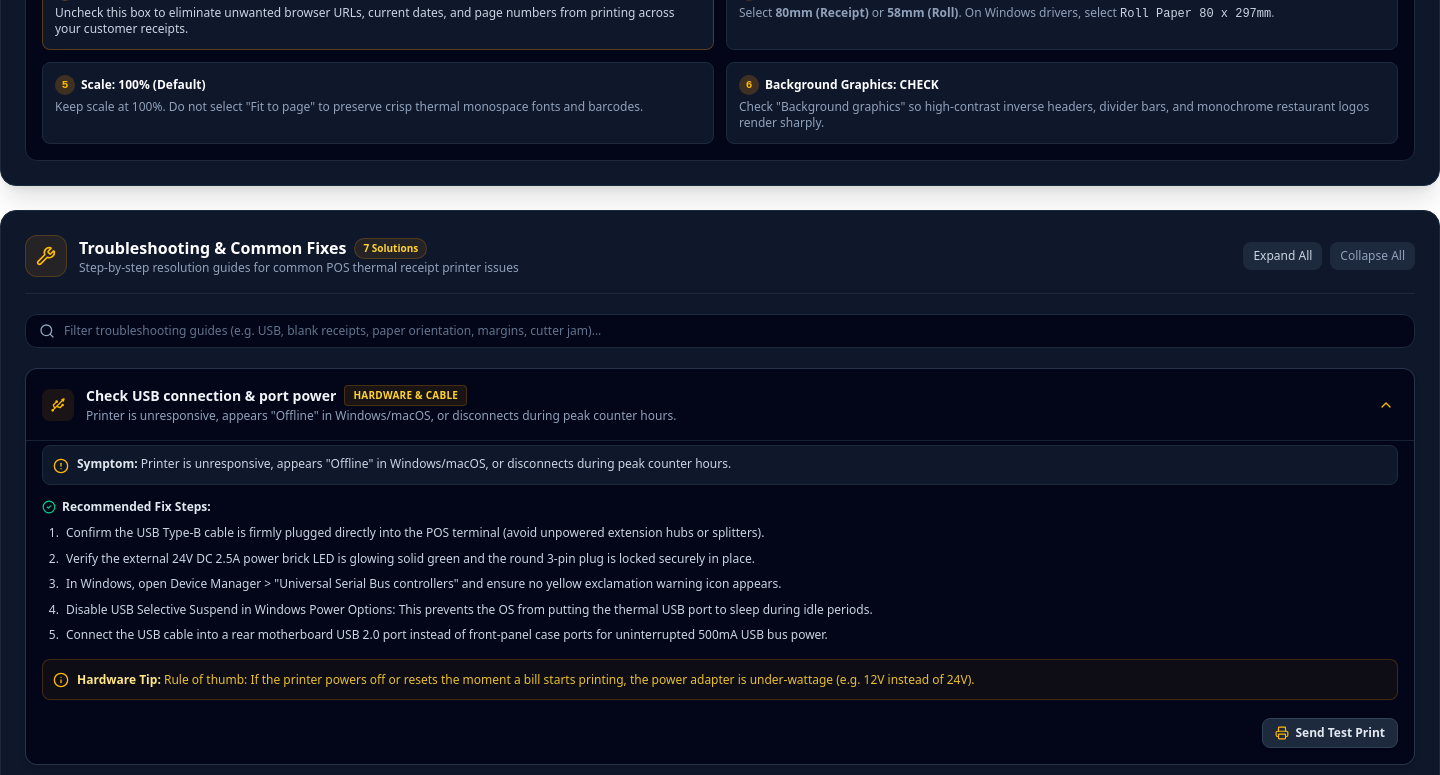
Test: PrinterDiagnosticView › supports filtering troubleshooting solutions by keyword search
(page scrolled)
Replace the text in the field with placeholder "Filter troubleshooting guides" with "cutter" at [720, 331], box top-left (25, 314), bottom-right (1415, 348)
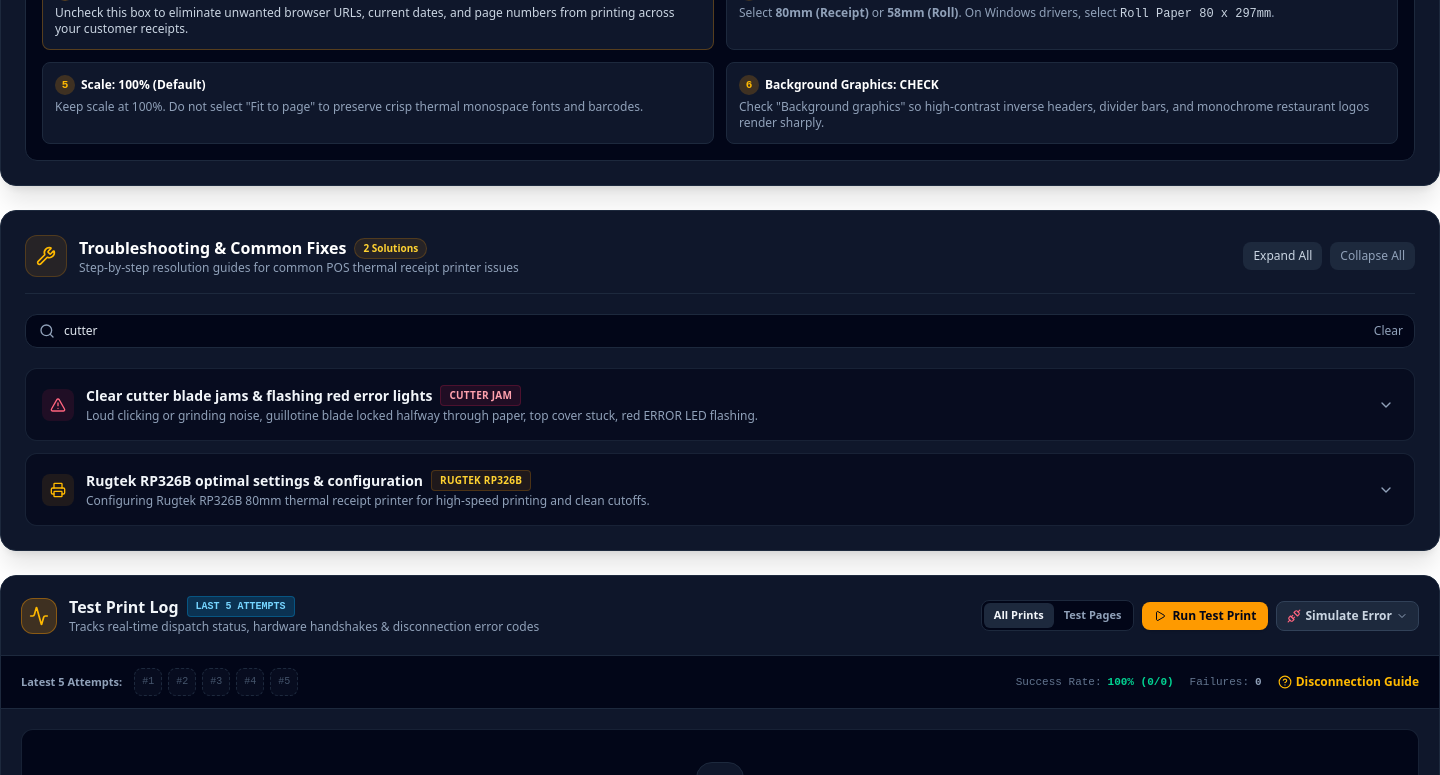
Expected: the text "Clear cutter blade jams & flashing red error lights" is shown, top-left (86, 386), bottom-right (432, 406)
Expected: the button "Check USB connection & port power" is gone
// Clear search
Click the button named "Clear troubleshooting search" at [1388, 331], box top-left (1374, 323), bottom-right (1403, 339)
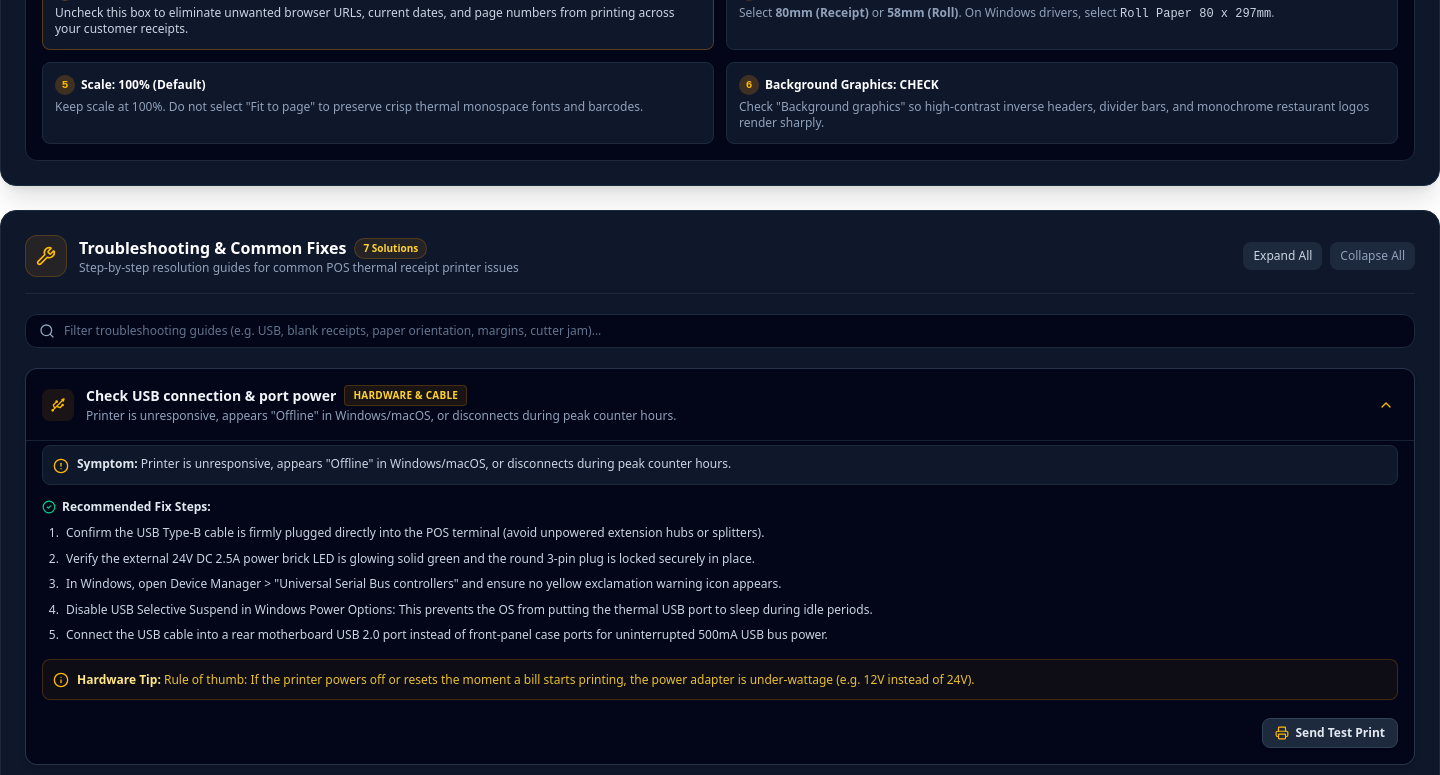
Expected: the text "Check USB connection & port power" is shown, top-left (86, 386), bottom-right (336, 406)
